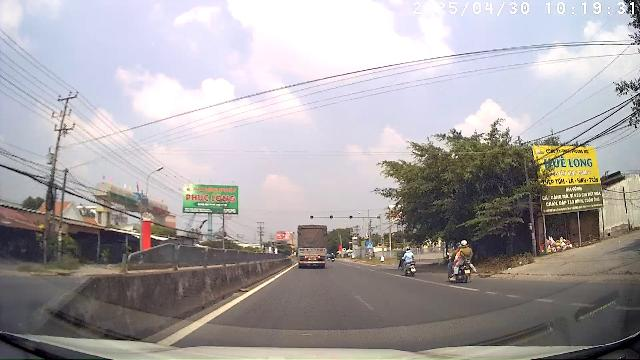423a-duong-nguoi-di-bo-sang-ngang-1: (366, 242, 374, 248)
